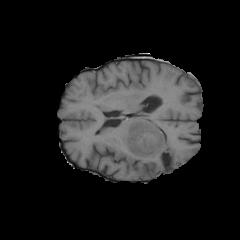glioma: (114, 119, 181, 167)
